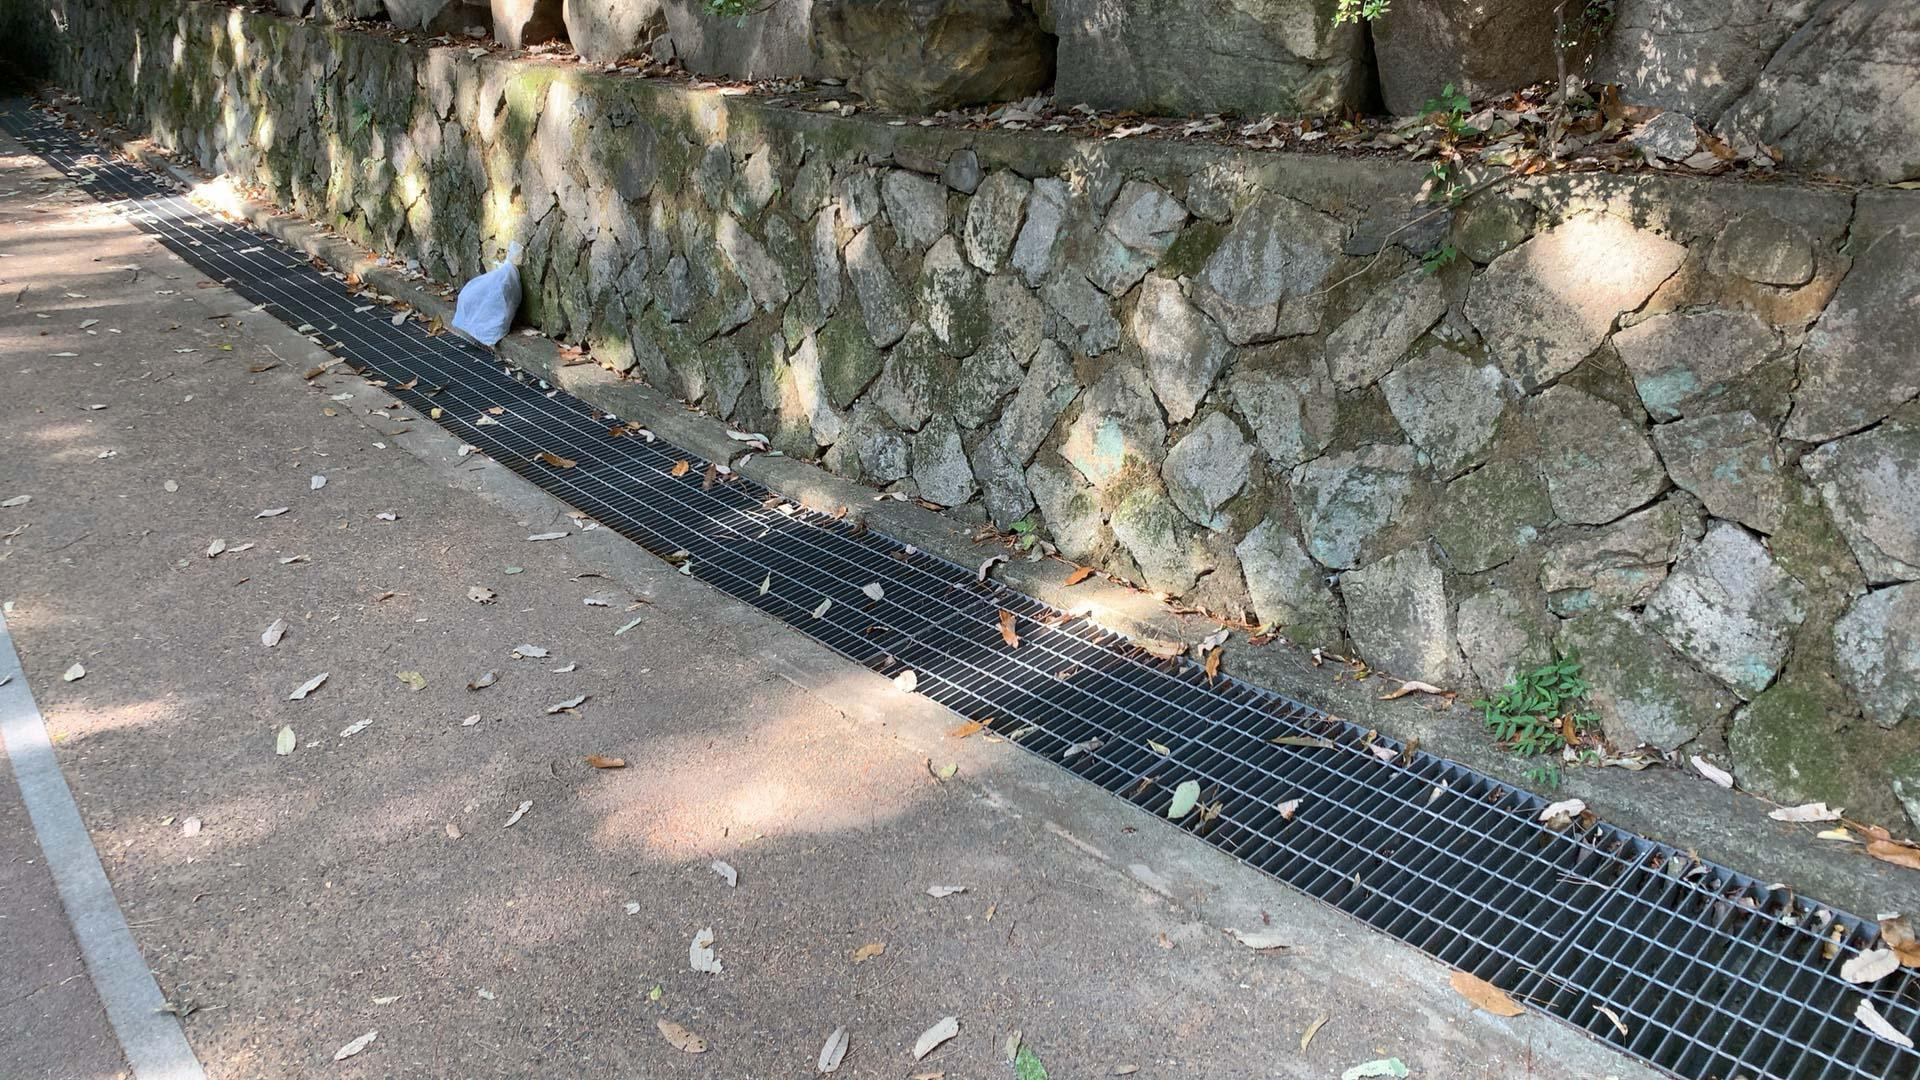white_bag: (447, 237, 531, 349)
